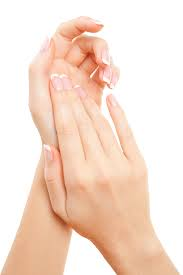hand: (14, 4, 166, 245)
